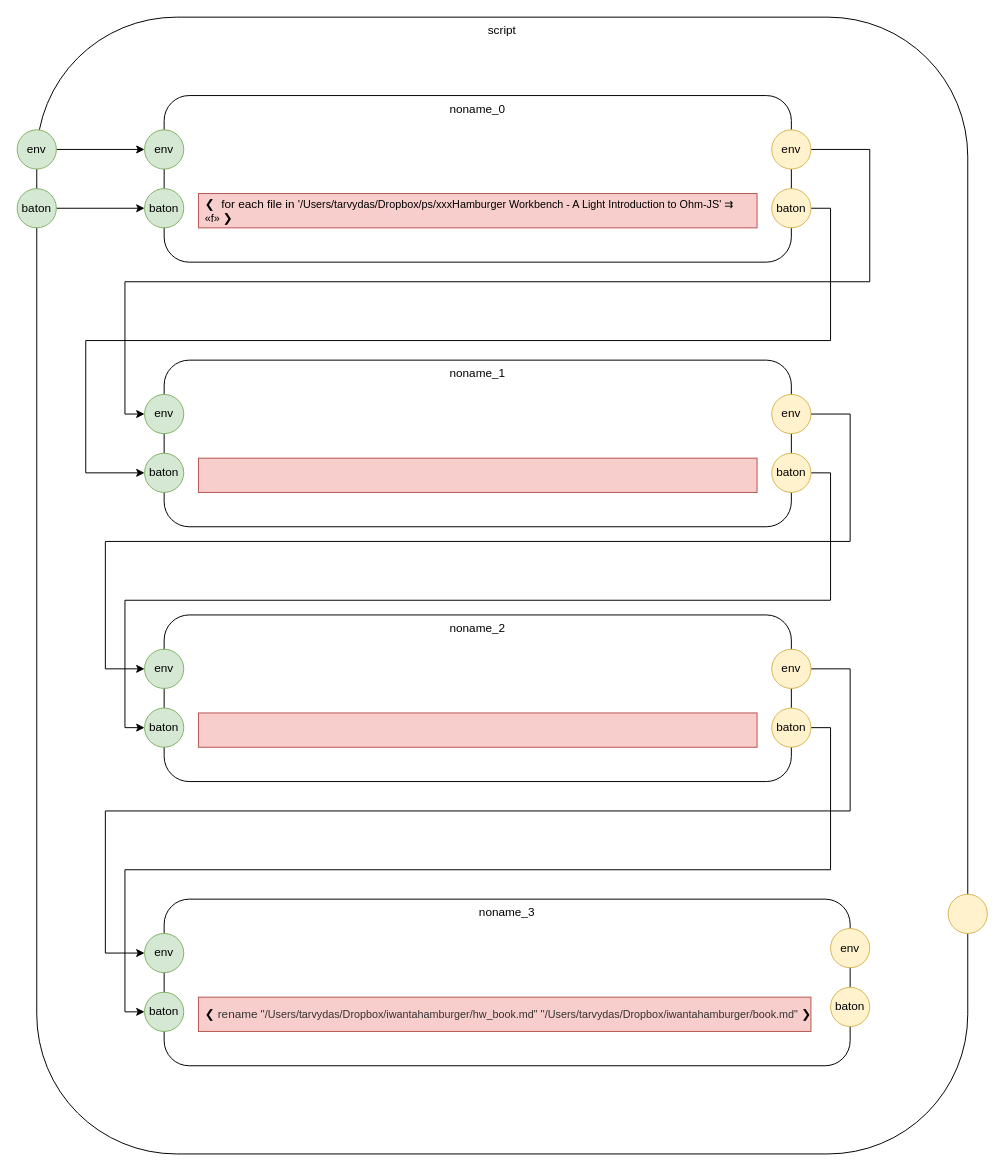
The diagram is 1005 pixels wide and 1171 high, and some of its shapes have lost their labels. The centre of each missing label's shape, as x and y in pixels:
out: point (967, 913)
❮ copy «f» to "/Users/tarvydas/Dropbox/iwantahamburger" ❯: point (477, 729)
❮ delete all files in "/Users/tarvydas/Dropbox/iwantahamburger" ❯: point (477, 474)
